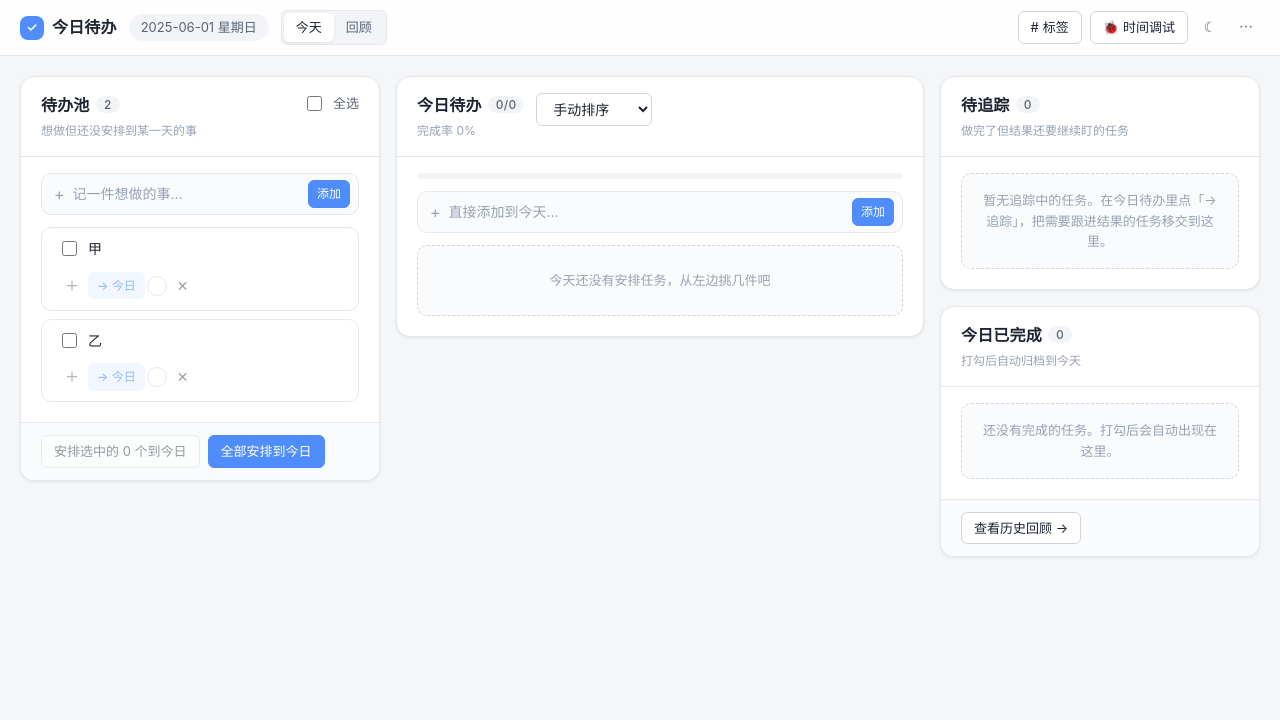
App 真实渲染（jsdom） › 待办池：选择框在最前、完成框在行尾，全选按钮可一次选中全部
Click the checkbox named "全选待办池任务": point(314, 104) x1=307 y1=96 x2=322 y2=111
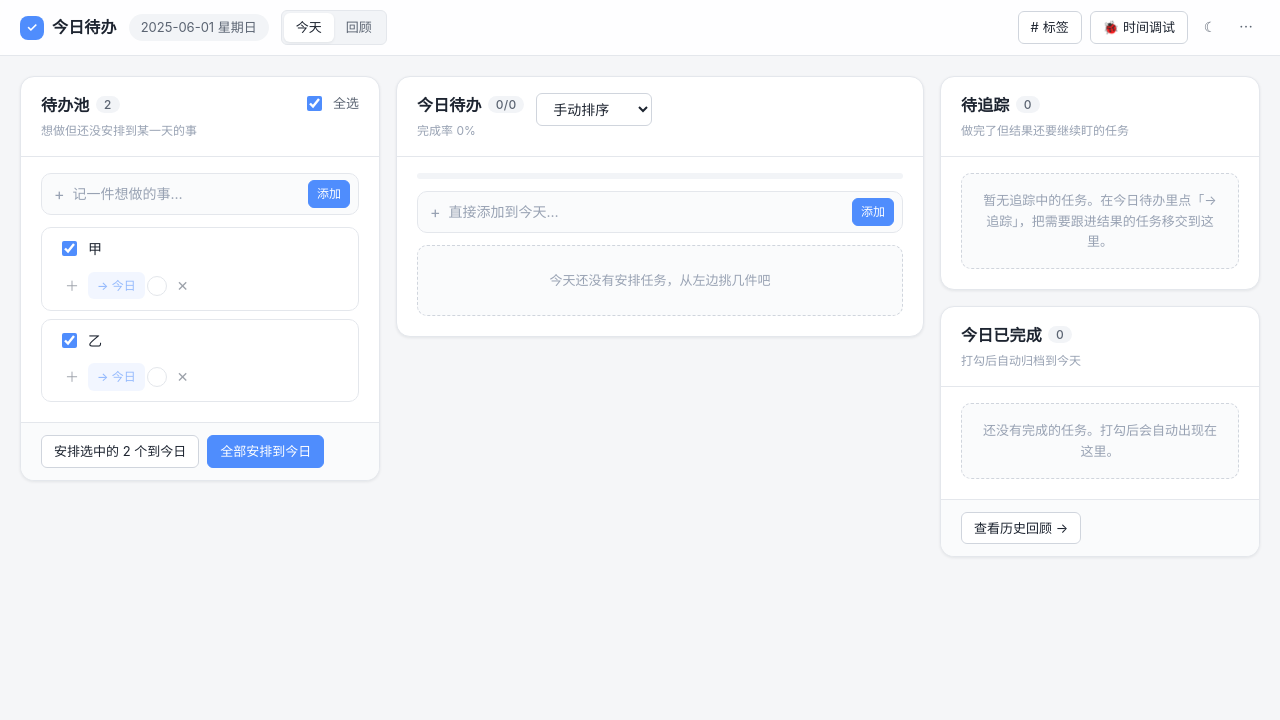
Check: the button "安排选中的 2 个到今日" is shown, box x1=41 y1=435 x2=199 y2=468
Note: 再点一次取消全选
Click the checkbox named "全选待办池任务": point(314, 104) x1=307 y1=96 x2=322 y2=111
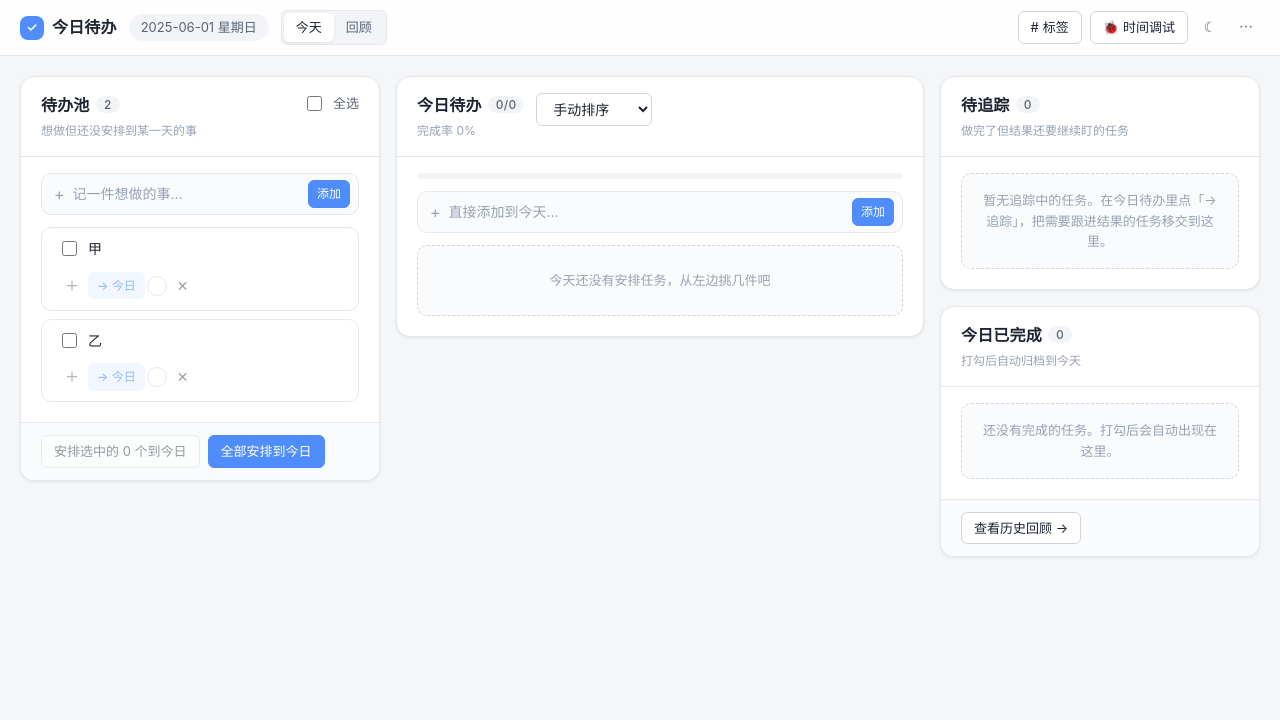
Check: the button "安排选中的 0 个到今日" is shown, box x1=41 y1=435 x2=200 y2=468
